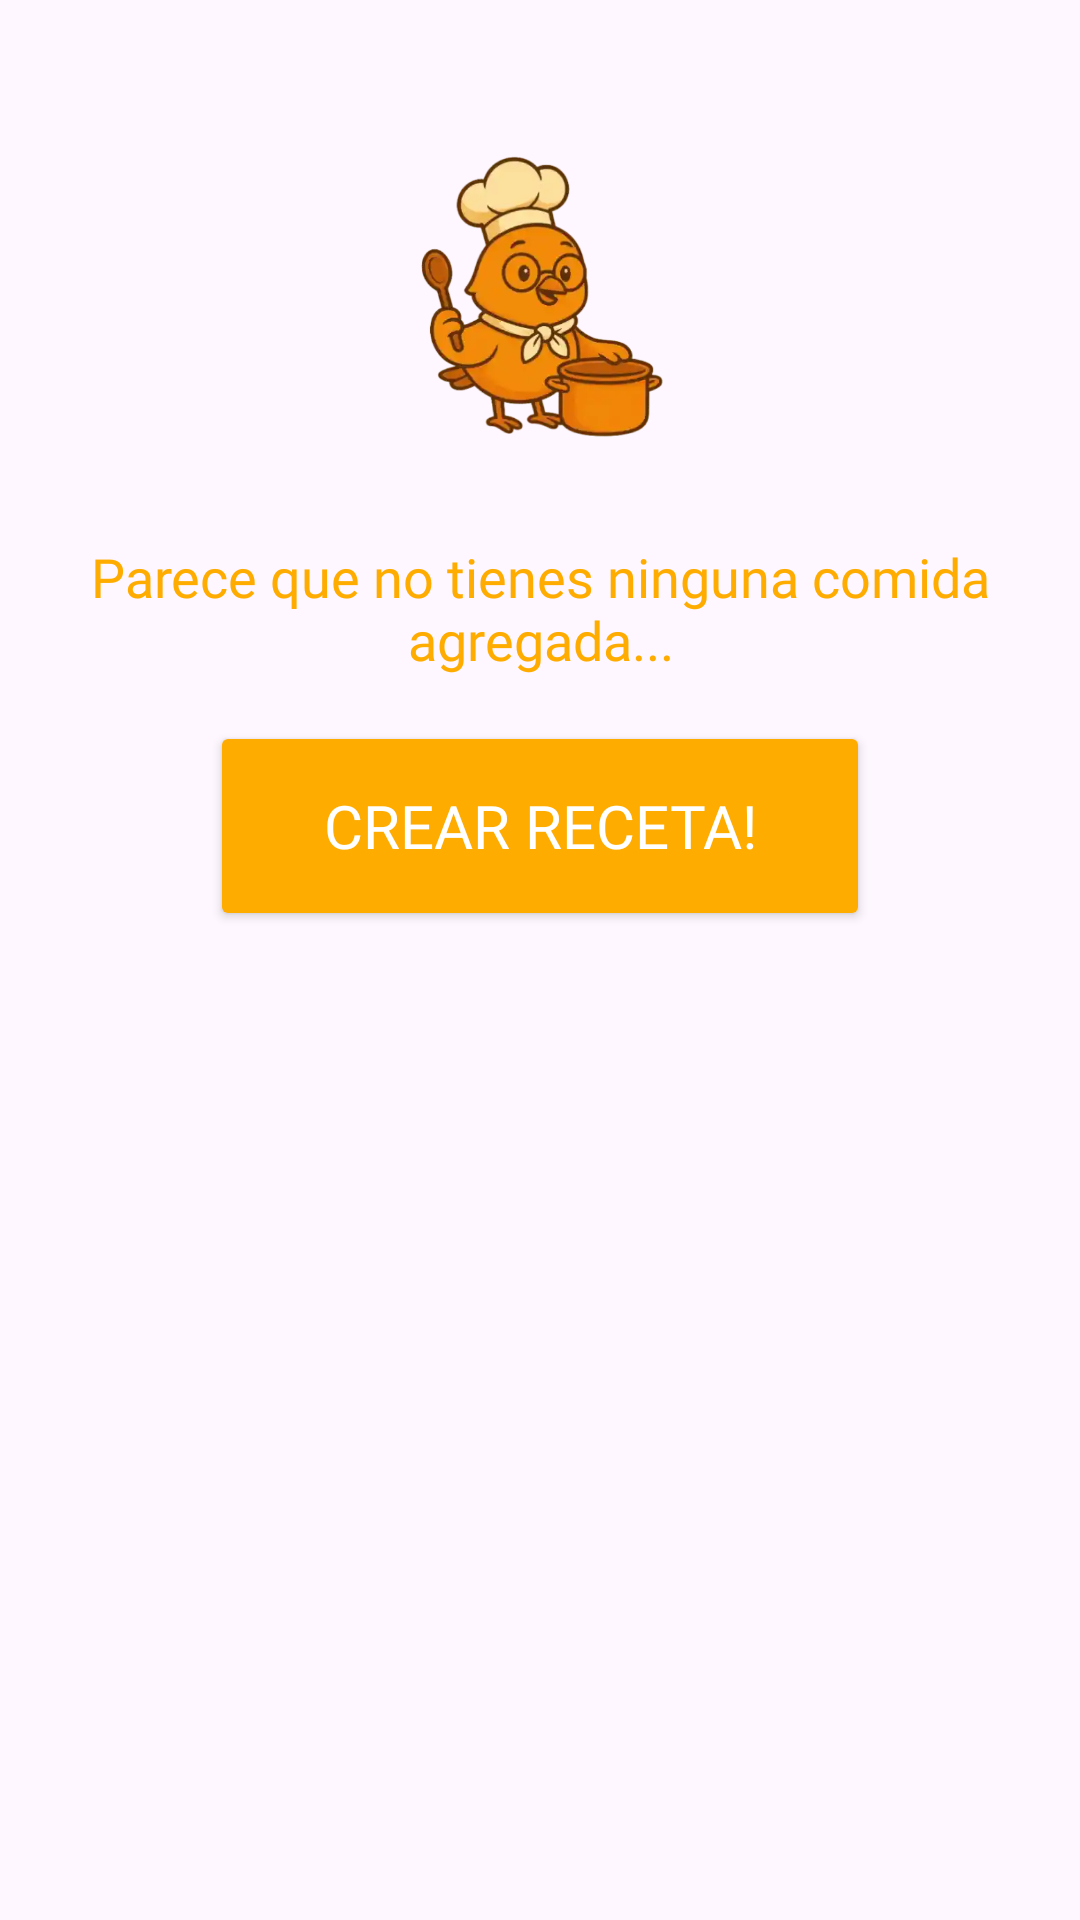

Where icons sit on this 1080*1920 app screen, as (x1, y1, x2, y2):
pollo cocinando: (421, 157, 663, 437)
